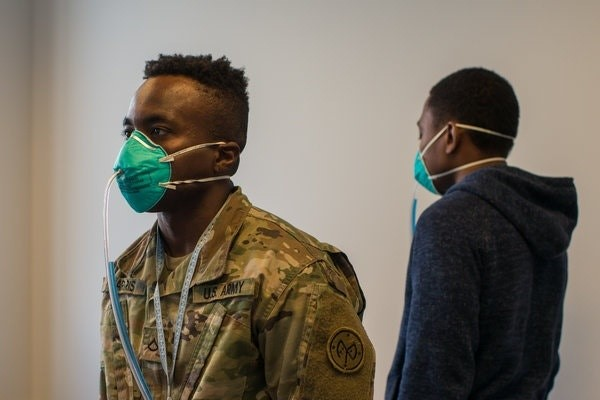face_with_mask: (111, 54, 246, 218), (410, 69, 515, 205)
